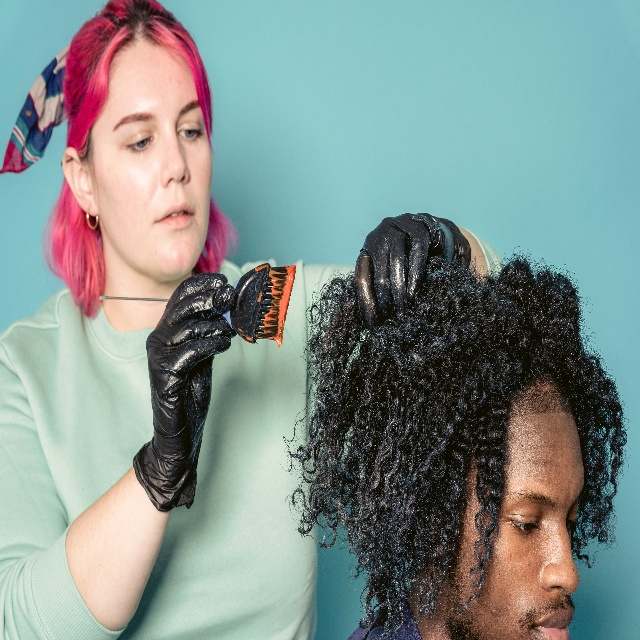Guantes: (134, 270, 237, 513), (353, 212, 472, 334)
